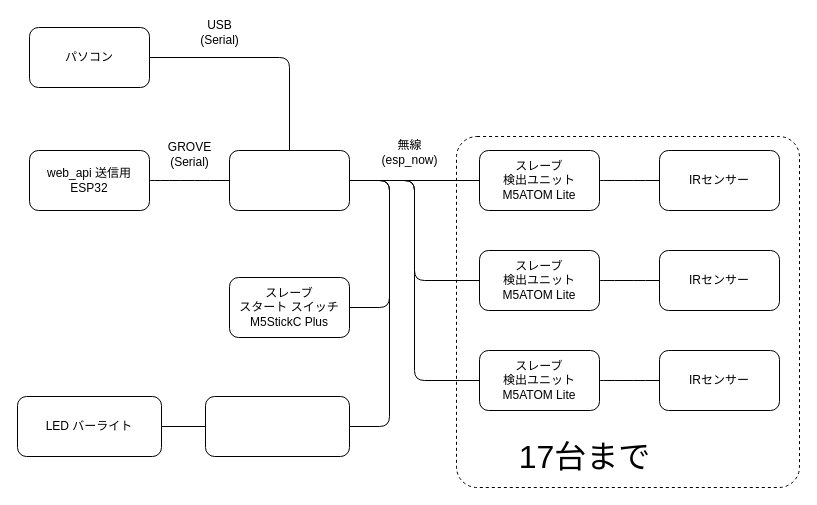
This 817x505 diagram has some shape labels left out. Here are the shapes that lost their labels. From the top down, the box of each, then its label:
(228, 150, 350, 210): マスター M5core2
(204, 396, 350, 456): シグナル表示ユニット M5ATOM Matrix
